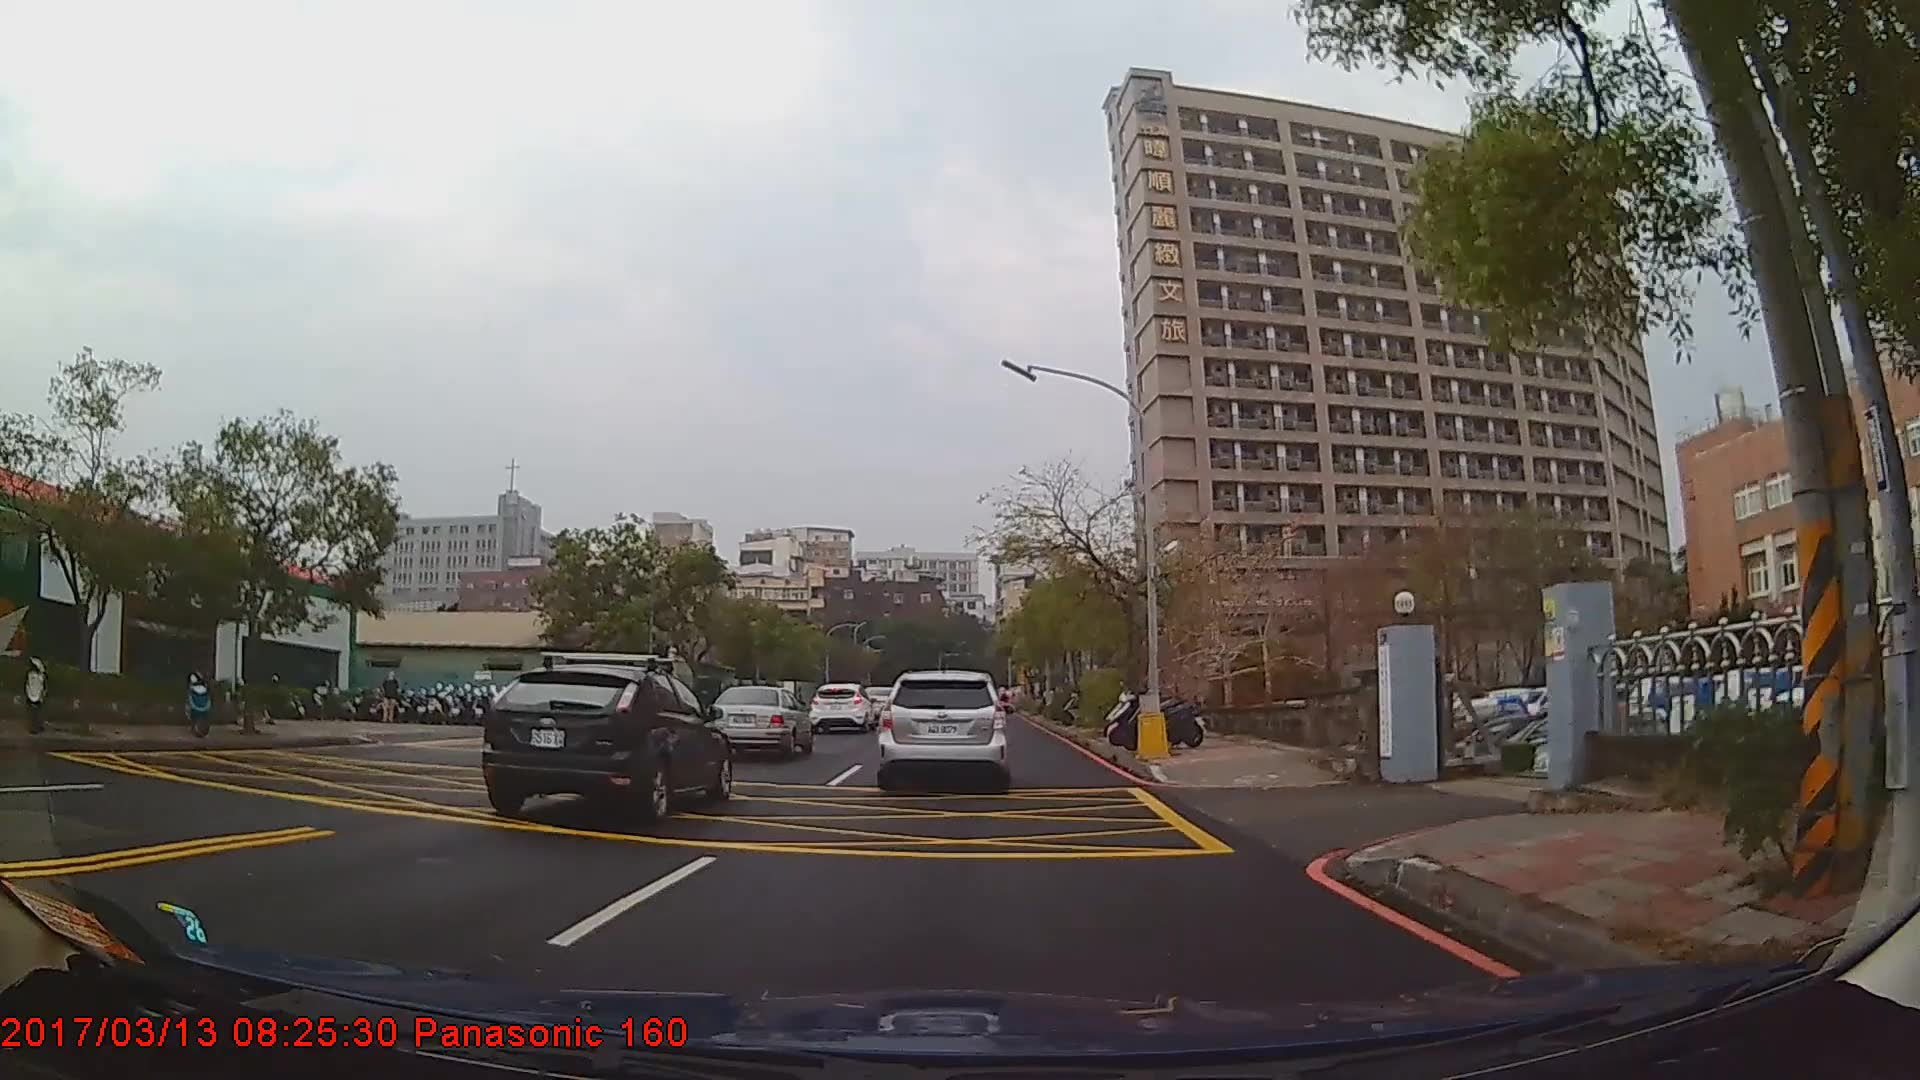pedestrian: (382, 673, 402, 726)
vehicle: (479, 664, 730, 822), (878, 671, 1007, 790), (0, 503, 41, 717), (707, 684, 813, 759), (809, 681, 875, 733)
